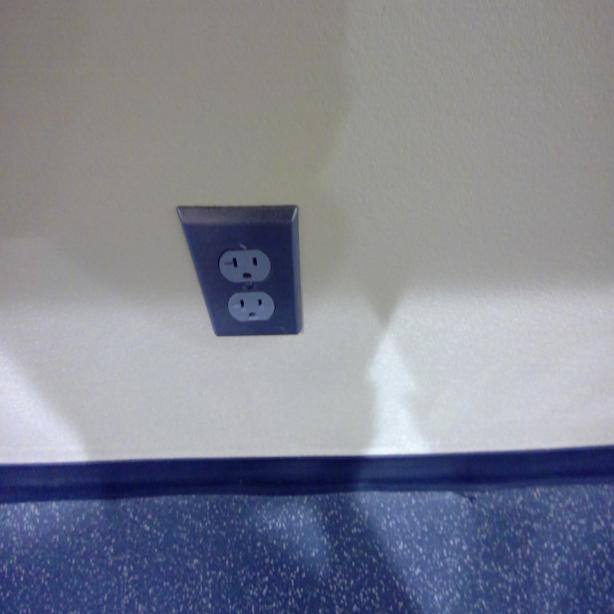typeb: (221, 248, 265, 286), (231, 293, 271, 326)
